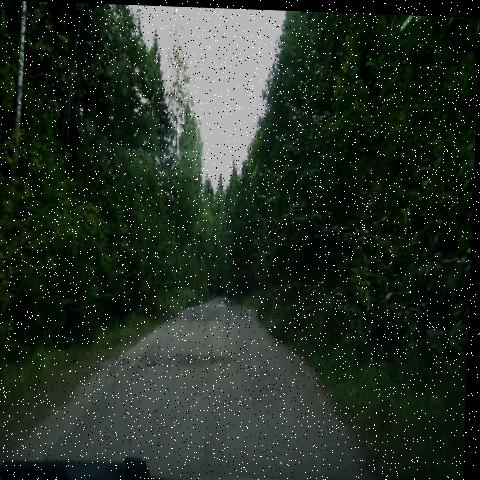pothole: (169, 328, 243, 390), (215, 280, 235, 318)
